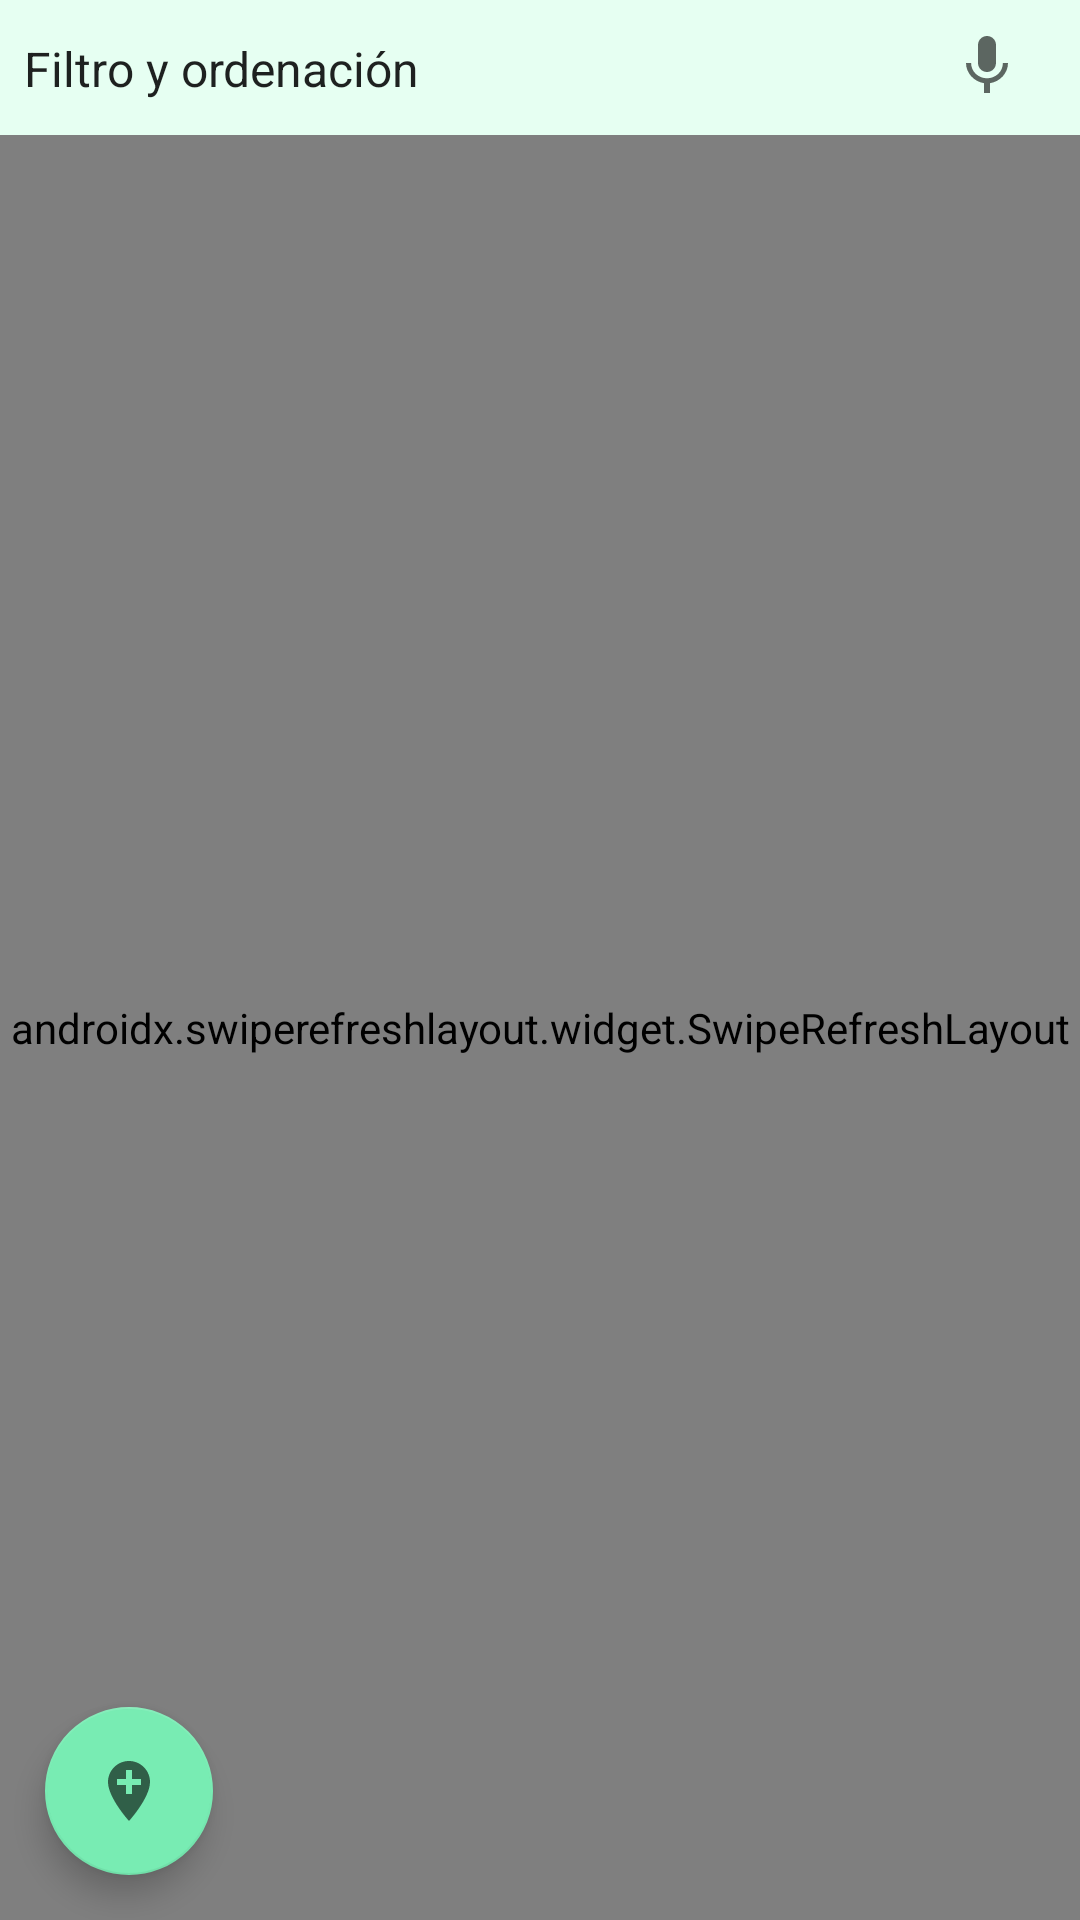

Screen size 1080w x 1920h. Icon name, then its box in pixels as [x1,y1,x2,y2]:
add: [45,1707,213,1875]
mic: [966,36,1008,93]
